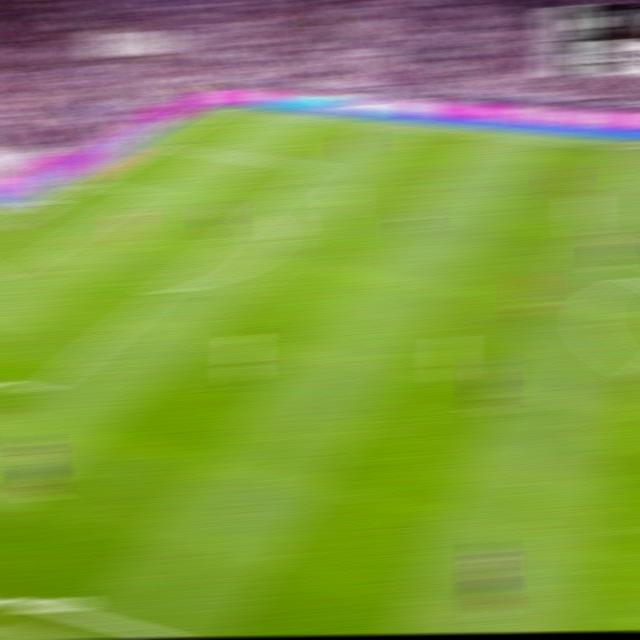bigarea_bottom_inner: (28, 378, 56, 399)
bigarea_top_inner: (304, 160, 326, 173)
bigarea_top_outter: (144, 139, 170, 151)
bottom_arc_area_intersection: (150, 283, 178, 299)
corner: (210, 103, 234, 112)
smallarea_top_inner: (132, 187, 154, 196)
top_arc_area_intersection: (244, 208, 268, 222)
